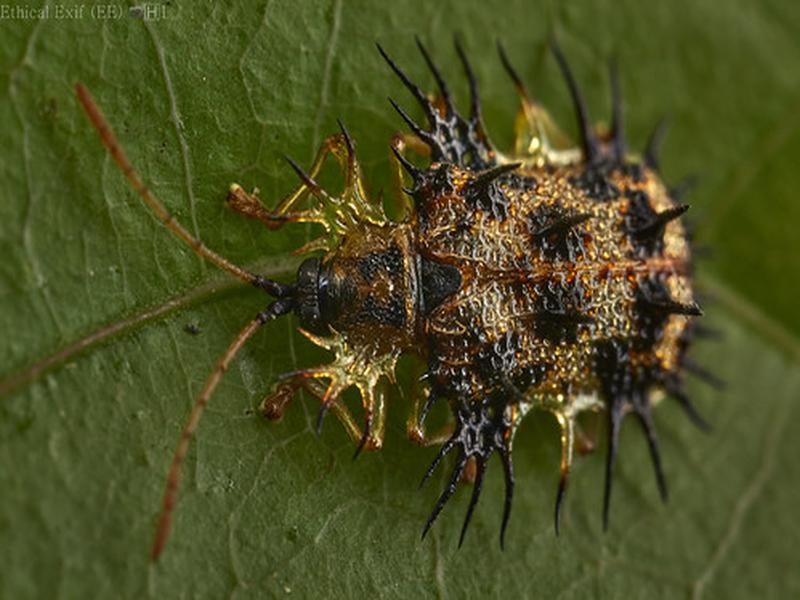Spiny_beetle: (155, 104, 703, 501)
